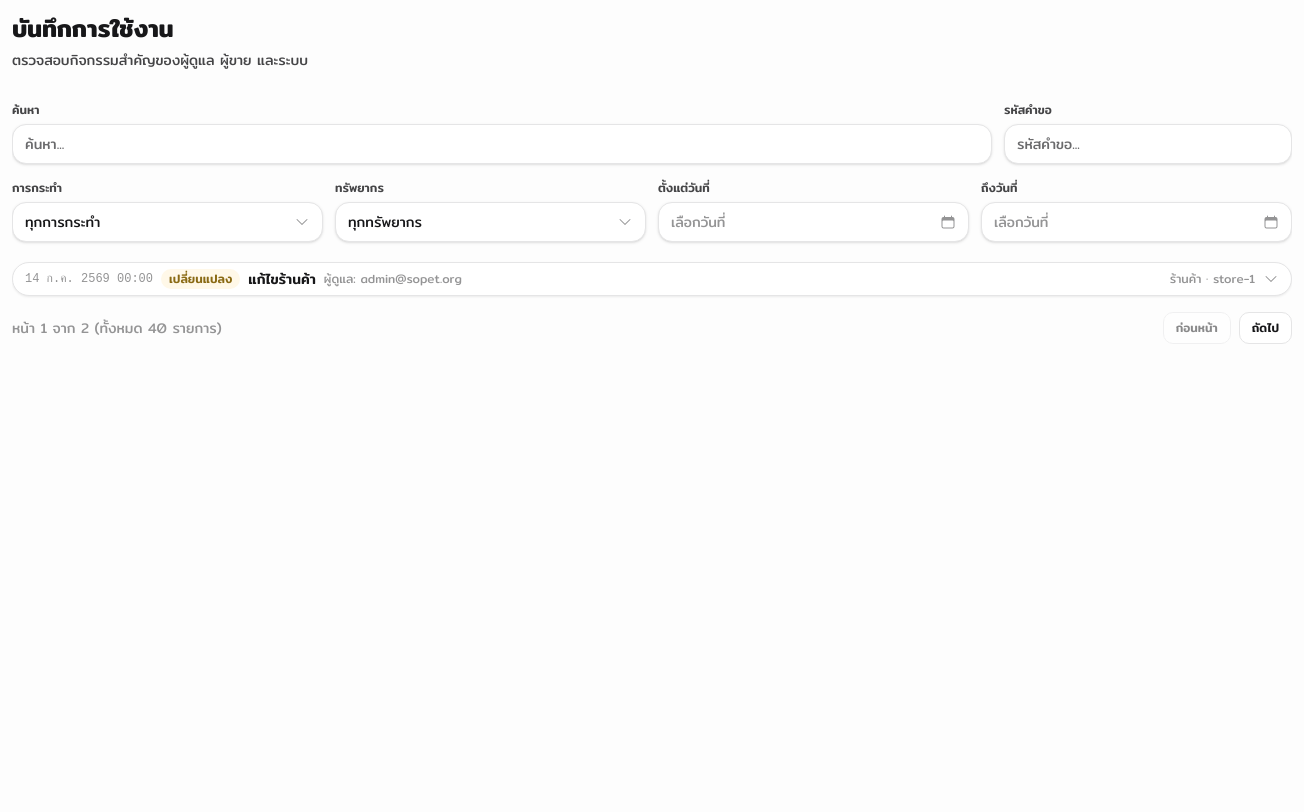
Test: AdminAuditLogsPage › remounts console on filter change from page 2 (collapses expand) and resets page to 1
Click the button "ถัดไป" at (1265, 328), box [1239,312,1292,344]
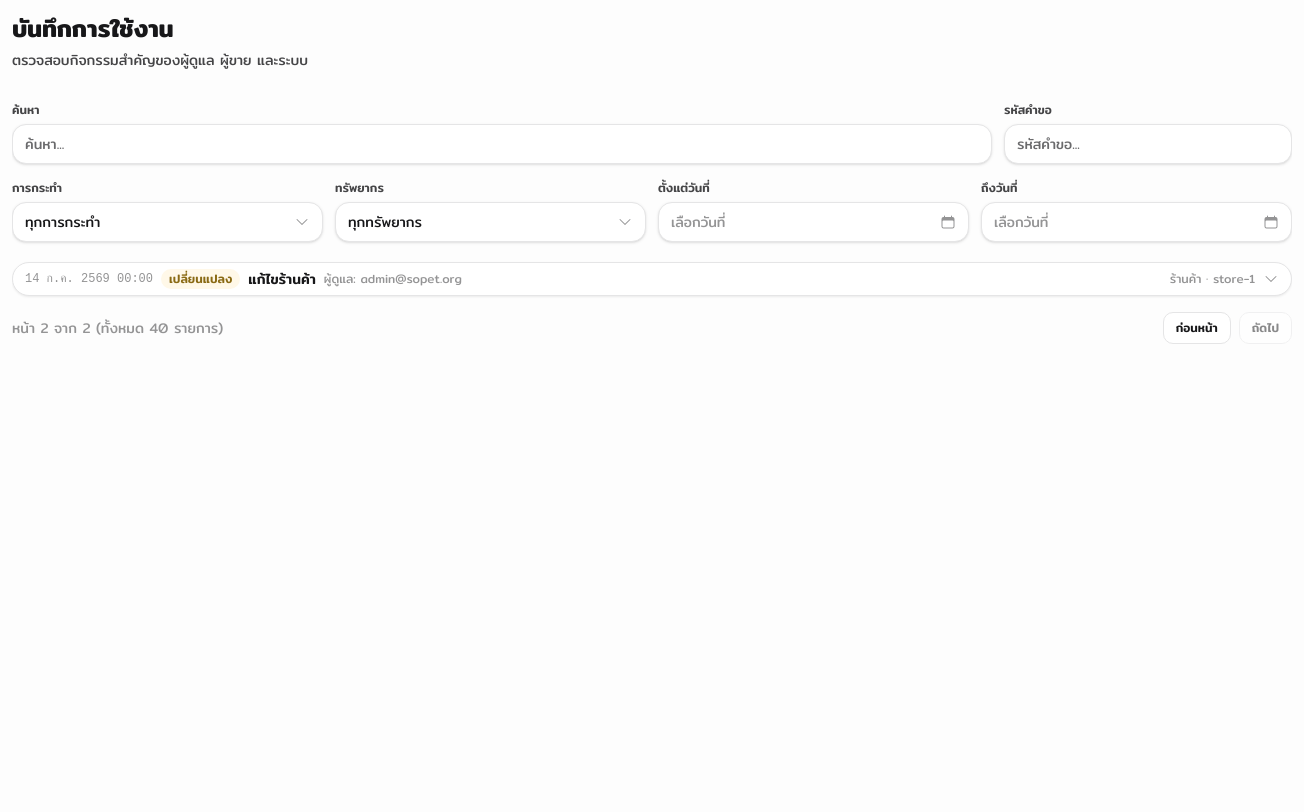
Click the button named "ขยายรายละเอียดบันทึก" at (89, 279), box [13,263,1291,295]
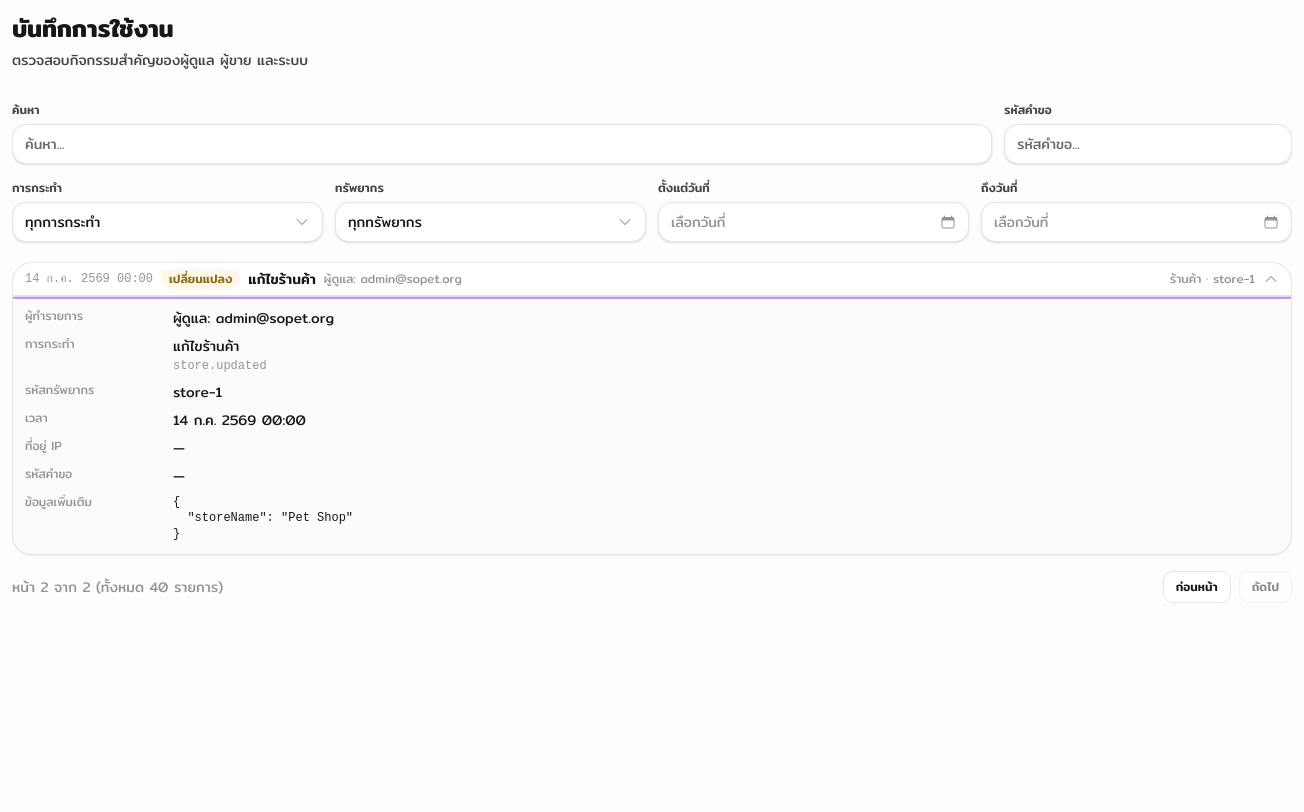
expect the button named "ย่อรายละเอียดบันทึก" is shown: met, box [13,263,1291,295]
Type "pet" into the search field named "ค้นหาบันทึก" at (502, 144), box [12,124,992,164]
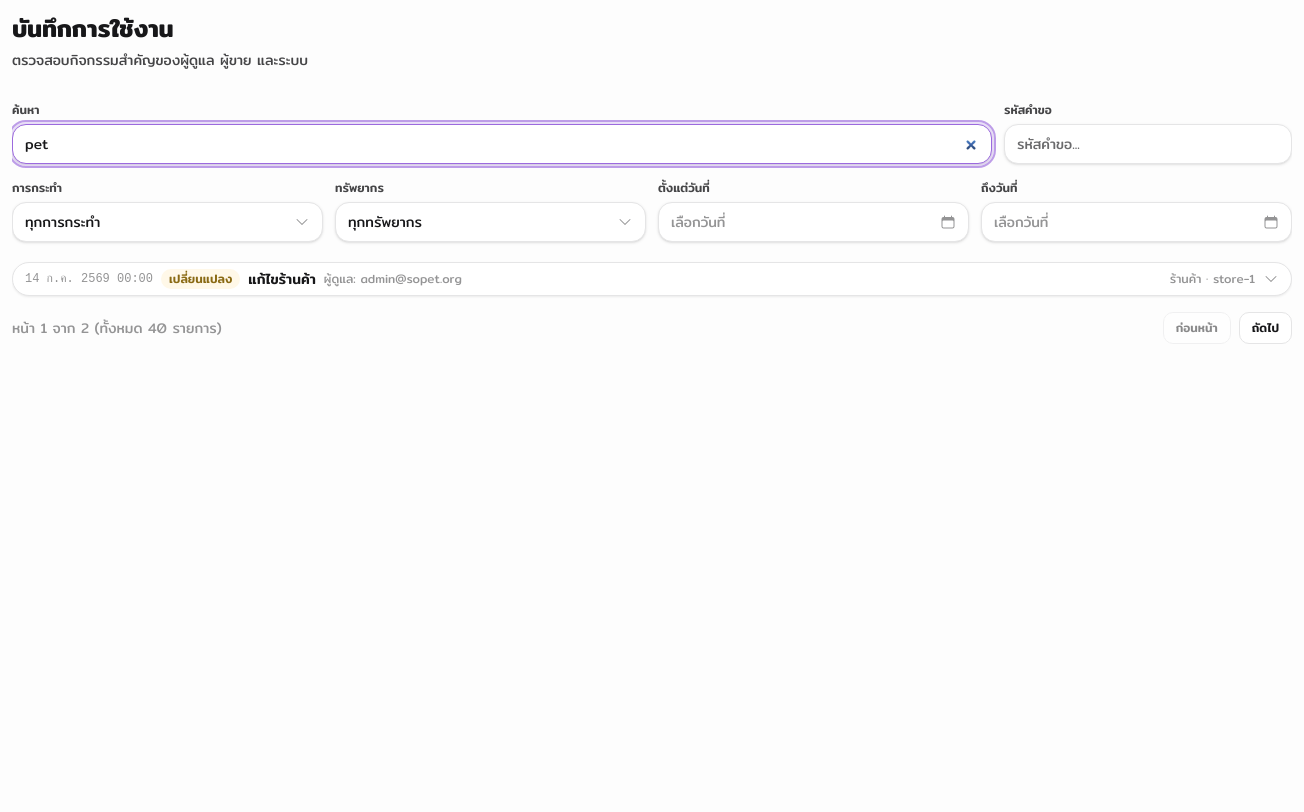
expect the button named "ขยายรายละเอียดบันทึก" is shown: met, box [13,263,1291,295]
